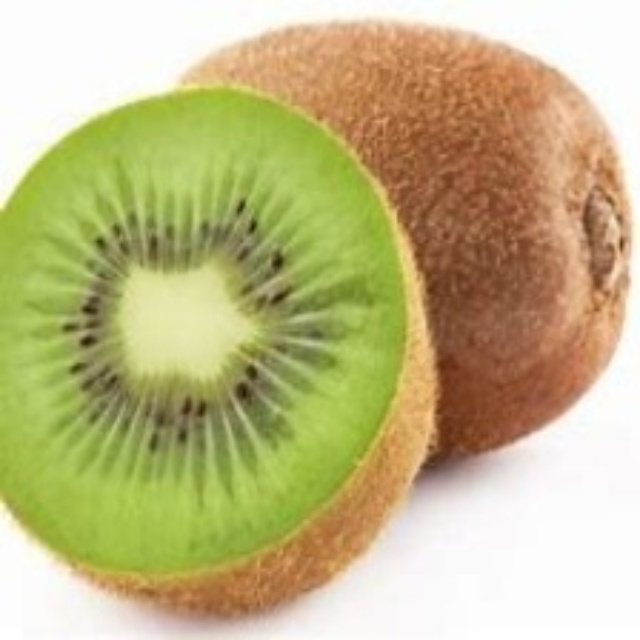kiwi: (0, 91, 428, 629), (165, 19, 633, 484)
